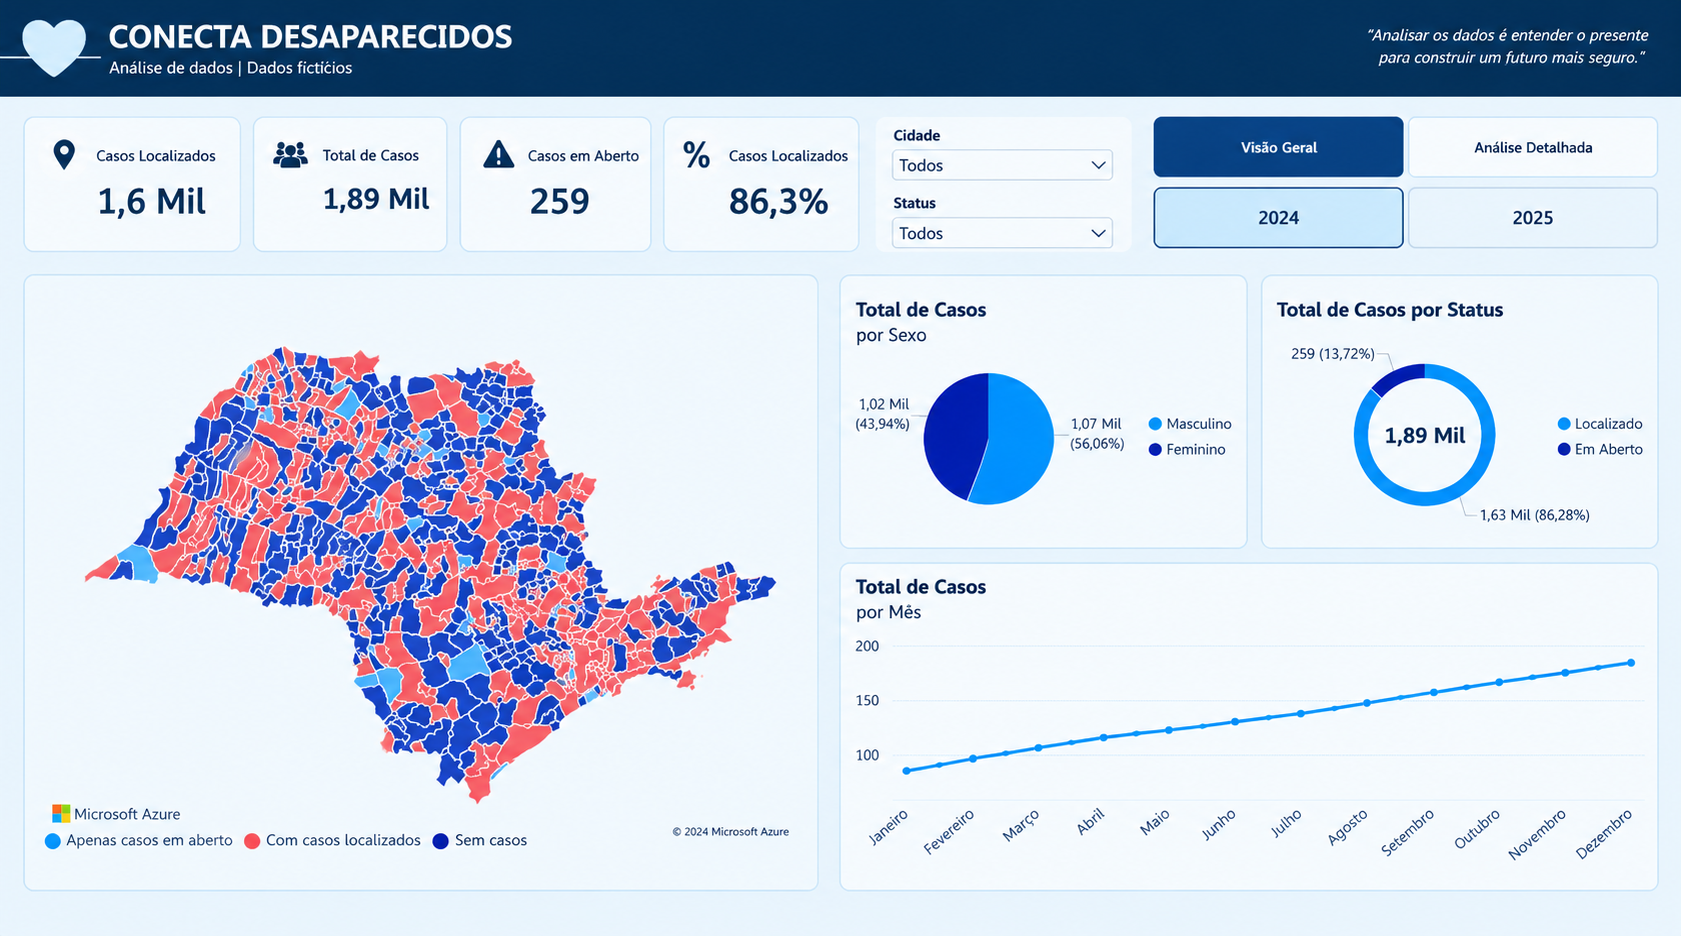

This screenshot's page, from the dashboard's own definition file:
{"tool":"powerbi","page":{"name":"Visão Geral","canvas":[1920,1080],"ordinal":0},"visuals":[{"type":"shape","box":[-0.3,0,1918.5,86.7],"z":0,"group":"g9"},{"type":"shape","box":[570.4,125,182.3,173.5],"z":0,"group":"g4"},{"type":"shape","box":[777.7,127.9,182.3,173.5],"z":0},{"type":"shape","box":[366.1,129.4,185.2,170.5],"z":0,"group":"g6"},{"type":"shape","box":[150,130.8,185.2,170.5],"z":0,"group":"g8"},{"type":"group","id":"g1","title":"Grupo 2","box":[150,130.8,185.2,170.5],"z":0,"group":"g5"},{"type":"shape","box":[0,55.8,117.5,1023.9],"z":1000,"group":"g9"},{"type":"azureMap","fields":{"Category":["DIM_Localizações.Cidade","DIM_Localizações.Estado"],"Series":["DIM_Localizações.Situação Município"],"X":["Avg(DIM_Localizações.Longitude)"],"Y":["Avg(DIM_Localizações.Latitude)"]},"box":[172,360.2,758.6,638],"z":1000},{"type":"pieChart","fields":{"Category":["FATO_Desaparecimentos.Sexo"],"Y":["FATO_Desaparecimentos.Total de Casos"]},"box":[1005.6,371.9,424.9,273.4],"z":2000},{"type":"donutChart","fields":{"Category":["FATO_Desaparecimentos.Status"],"Y":["FATO_Desaparecimentos.Total de Casos"]},"box":[1449.6,371.9,442.5,273.4],"z":3000},{"type":"slicer","fields":{"Values":["DIM_Calendário.Ano"]},"box":[1304,227.9,607.2,85.3],"z":4000},{"type":"slicer","fields":{"Values":["DIM_Localizações.Cidade"]},"box":[1024.7,133.8,229.3,64.7],"z":5000},{"type":"slicer","fields":{"Values":["FATO_Desaparecimentos.Status"]},"box":[1024.7,222,229.3,95.6],"z":6000},{"type":"cardVisual","fields":{"Data":["FATO_Desaparecimentos.% Casos Localizados"]},"box":[763,125,211.7,173.5],"z":7000},{"type":"group","id":"g2","title":"Grupo 1","box":[-0.3,0,1918.1,1080],"z":8000},{"type":"cardVisual","fields":{"Data":["FATO_Desaparecimentos.Casos em Aberto"]},"box":[570.4,158.8,182.3,104.4],"z":8000,"group":"g4"},{"type":"pageNavigator","box":[1323.1,126.4,568.9,77.9],"z":9000},{"type":"cardVisual","fields":{"Data":["FATO_Desaparecimentos.Total de Casos"]},"box":[376,140.3,160.2,144.1],"z":10000,"group":"g6"},{"type":"lineChart","fields":{"Category":["DIM_Calendário.Data.Variation.Hierarquia de datas.Mês"],"Y":["FATO_Desaparecimentos.Total de Casos"]},"box":[1005.6,679.2,886.5,352.8],"z":10000},{"type":"group","id":"g3","title":"Grupo 2","box":[366.1,129.4,185.2,170.5],"z":11000},{"type":"group","id":"g4","title":"Grupo 5","box":[570.4,125,182.3,173.5],"z":12000},{"type":"group","id":"g5","title":"Grupo 6","box":[142.6,130.8,198.5,170.5],"z":13000},{"type":"group","id":"g6","title":"Grupo 4","box":[366.1,129.4,185.2,170.5],"z":13001,"group":"g7"},{"type":"group","id":"g7","title":"Grupo 3","box":[366.1,129.4,185.2,170.5],"z":13003,"group":"g3"},{"type":"group","id":"g8","title":"Grupo 3","box":[150,130.8,185.2,170.5],"z":13003,"group":"g1"},{"type":"shape","box":[22.1,11.8,76.4,69.1],"z":14000},{"type":"cardVisual","fields":{"Data":["FATO_Desaparecimentos.Casos Localizados"]},"box":[142.6,144,198.5,135.3],"z":14001,"group":"g5"},{"type":"textbox","box":[126.4,11.8,535.1,44.1],"z":15000},{"type":"textbox","box":[132.3,55.9,651.3,30.9],"z":16000},{"type":"textbox","box":[1570.1,20.6,311.7,44.1],"z":17000},{"type":"group","id":"g9","title":"Grupo 7","box":[-0.3,0,1918.1,1080],"z":17001,"group":"g2"}]}

Visuals, with their boxes in screenshot pixels (x1, y1, x2, y2), scaled from the page's 1920x1080 canvas onto the 1681x936 screenshot:
shape: x1=0, y1=0, x2=1679, y2=75
shape: x1=499, y1=108, x2=659, y2=259
shape: x1=681, y1=111, x2=840, y2=261
shape: x1=321, y1=112, x2=483, y2=260
shape: x1=131, y1=113, x2=293, y2=261
"Grupo 2" group: x1=131, y1=113, x2=293, y2=261
shape: x1=0, y1=48, x2=103, y2=935
azureMap - DIM_Localizações.Cidade x DIM_Localizações.Estado: x1=151, y1=312, x2=815, y2=865
pieChart - FATO_Desaparecimentos.Sexo x FATO_Desaparecimentos.Total de Casos: x1=880, y1=322, x2=1252, y2=559
donutChart - FATO_Desaparecimentos.Status x FATO_Desaparecimentos.Total de Casos: x1=1269, y1=322, x2=1657, y2=559
slicer - DIM_Calendário.Ano: x1=1142, y1=198, x2=1673, y2=271
slicer - DIM_Localizações.Cidade: x1=897, y1=116, x2=1098, y2=172
slicer - FATO_Desaparecimentos.Status: x1=897, y1=192, x2=1098, y2=275
cardVisual - FATO_Desaparecimentos.% Casos Localizados: x1=668, y1=108, x2=853, y2=259
"Grupo 1" group: x1=0, y1=0, x2=1679, y2=935
cardVisual - FATO_Desaparecimentos.Casos em Aberto: x1=499, y1=138, x2=659, y2=228
pageNavigator: x1=1158, y1=110, x2=1656, y2=177
cardVisual - FATO_Desaparecimentos.Total de Casos: x1=329, y1=122, x2=469, y2=246
lineChart - DIM_Calendário.Data.Variation.Hierarquia de datas.Mês x FATO_Desaparecimentos.Total de Casos: x1=880, y1=589, x2=1657, y2=894
"Grupo 2" group: x1=321, y1=112, x2=483, y2=260
"Grupo 5" group: x1=499, y1=108, x2=659, y2=259
"Grupo 6" group: x1=125, y1=113, x2=299, y2=261
"Grupo 4" group: x1=321, y1=112, x2=483, y2=260
"Grupo 3" group: x1=321, y1=112, x2=483, y2=260
"Grupo 3" group: x1=131, y1=113, x2=293, y2=261
shape: x1=19, y1=10, x2=86, y2=70
cardVisual - FATO_Desaparecimentos.Casos Localizados: x1=125, y1=125, x2=299, y2=242
textbox: x1=111, y1=10, x2=579, y2=48
textbox: x1=116, y1=48, x2=686, y2=75
textbox: x1=1375, y1=18, x2=1648, y2=56
"Grupo 7" group: x1=0, y1=0, x2=1679, y2=935
